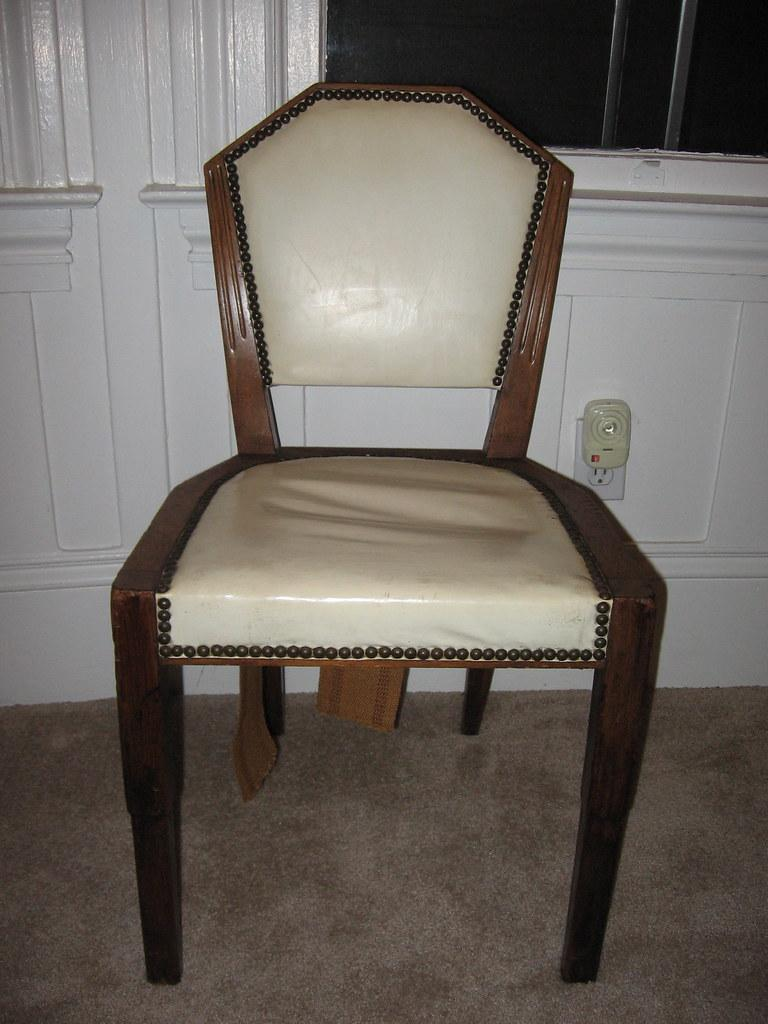chair: (110, 81, 668, 988)
